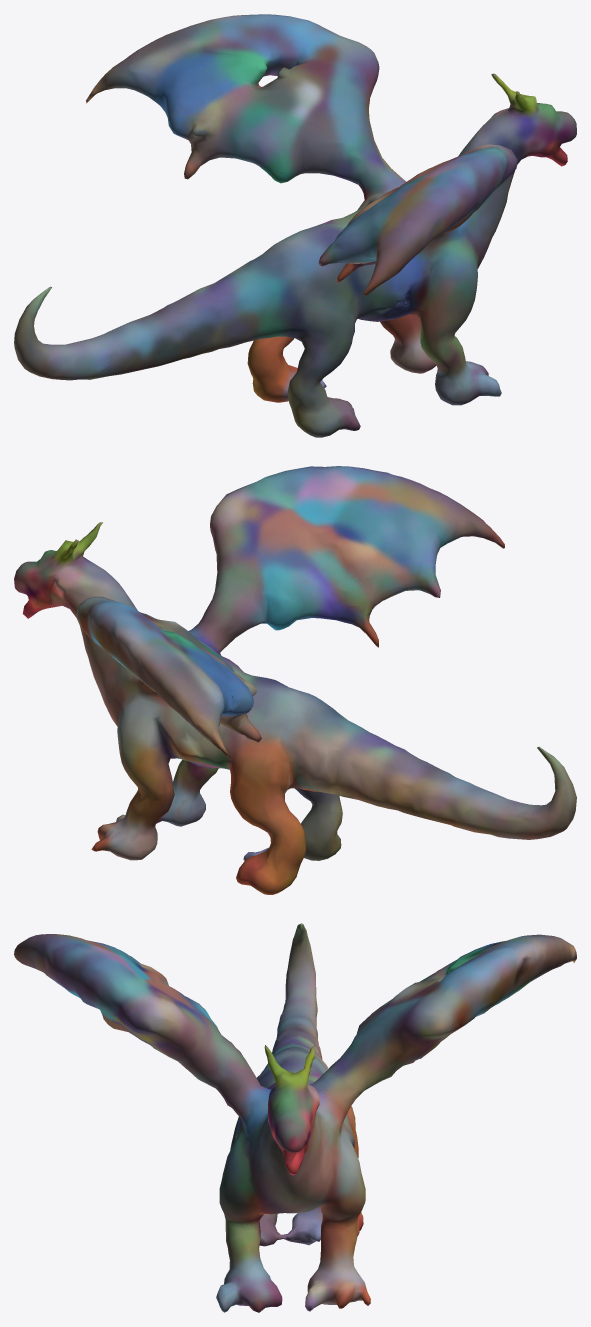
The model's file is 一条巨大的龙，凶狠，锋利的爪子_0324040206_preview.fbx.
3 renders of one model, top to bottom at view 1: azimuth 30°, elevation 25°; view 2: azimuth 150°, elevation 25°; view 3: azimuth 270°, elevation 25°, orthographic.
Visible parts, largest first — view 1: Mesh1; view 2: Mesh1; view 3: Mesh1.
Part boxes in pixels (x1,y1,x2,y2): Mesh1: [14, 14, 576, 437]; Mesh1: [14, 466, 576, 894]; Mesh1: [14, 923, 576, 1312].
Bounding box in the file's own units: 120 × 64.11 × 104.
1 material, 1 textured.
